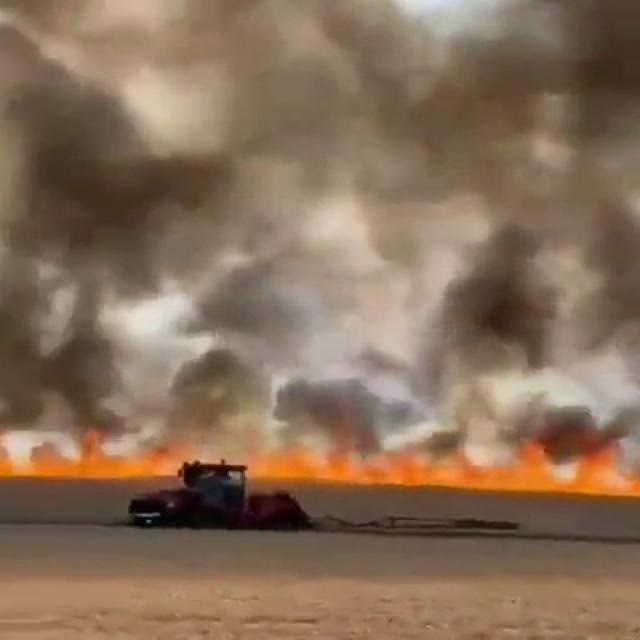Fire: (246, 445, 640, 506), (0, 445, 173, 479)
Smoke: (0, 0, 640, 472)
